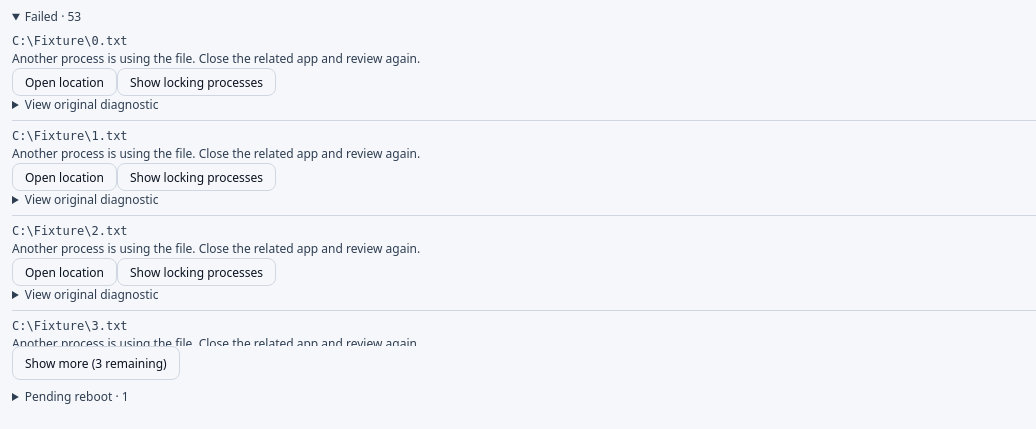
Scenario: groups results, exposes tail failures and reports location errors safely in en
Step 1. Click the button "Show more (3 remaining)" → [96, 363], box x1=12 y1=346 x2=180 y2=380
(page scrolled)
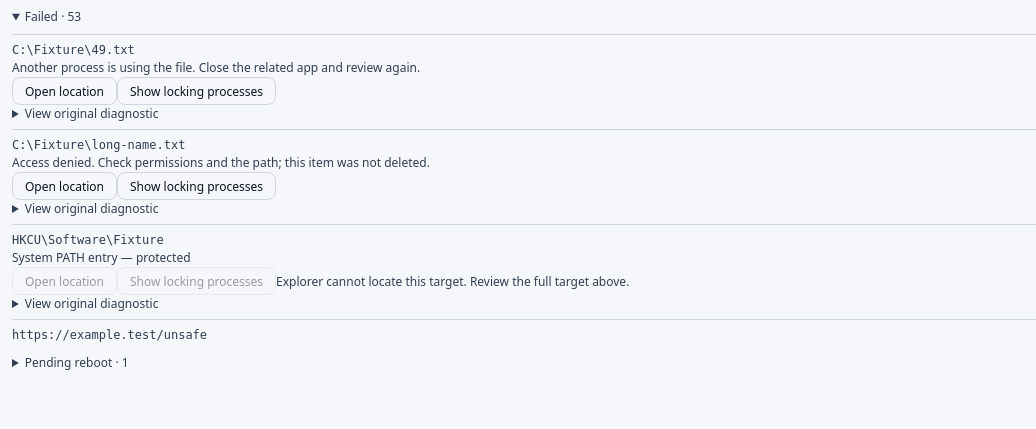
Check: the text "C:\\Fixture\\long-name.txt" is shown, box x1=12 y1=138 x2=185 y2=152
Step 2. Click the button "Open location" below "C:\\Fixture\\long-name.txt" → [64, 186], box x1=12 y1=172 x2=117 y2=200
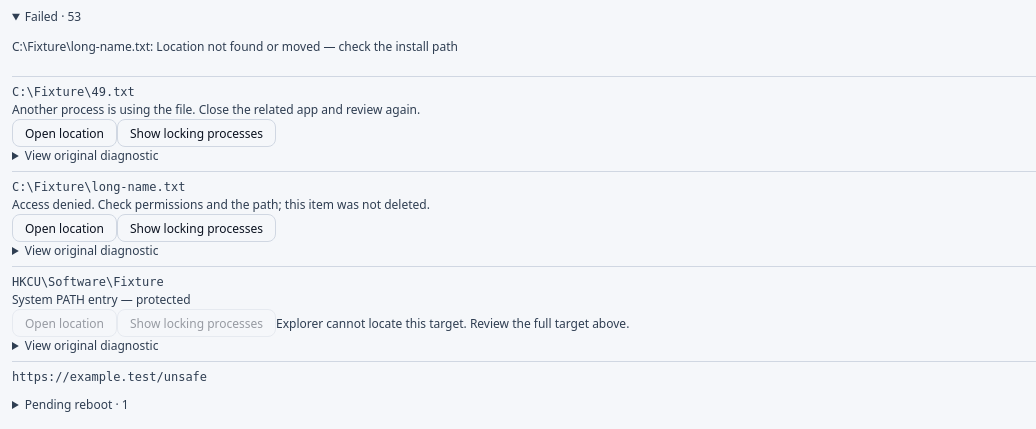
Check: the text "Access denied. Check permissions and the path; this item was not deleted." is shown 2 times
Check: the message shows "Location not found or moved — check the install path", box x1=12 y1=38 x2=458 y2=55
